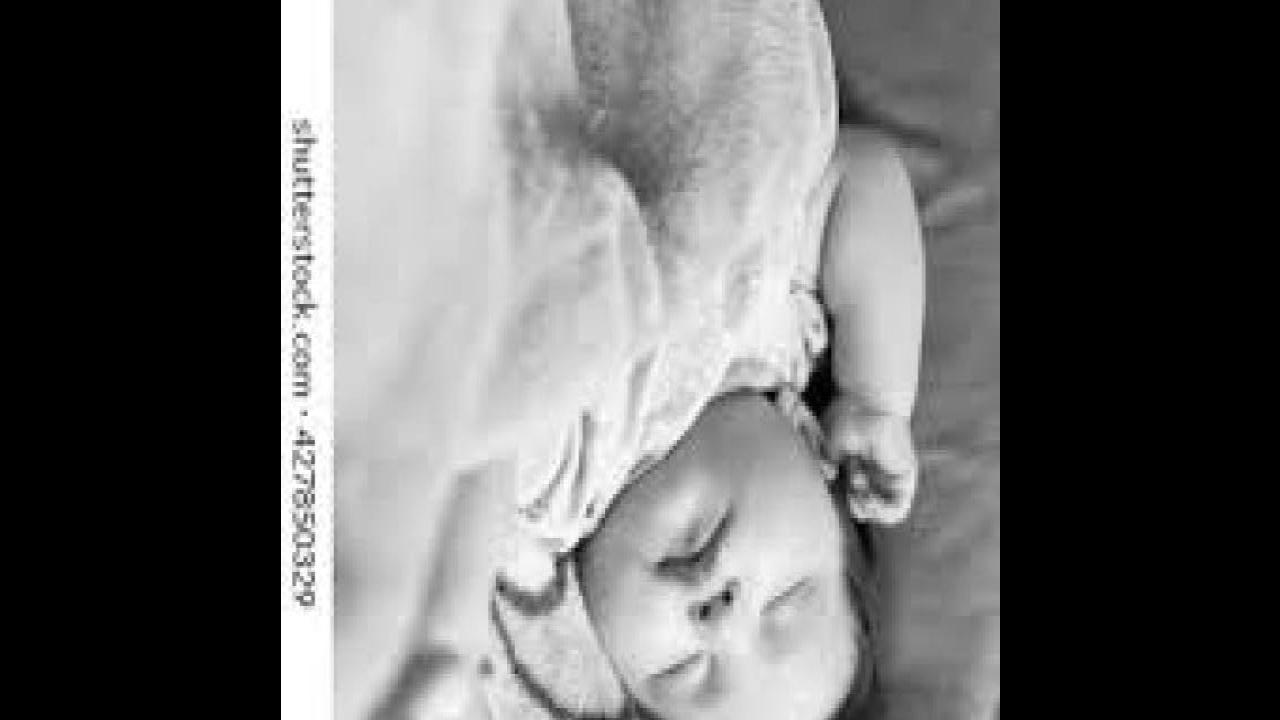hand: (821, 397, 920, 523), (365, 660, 501, 720)
